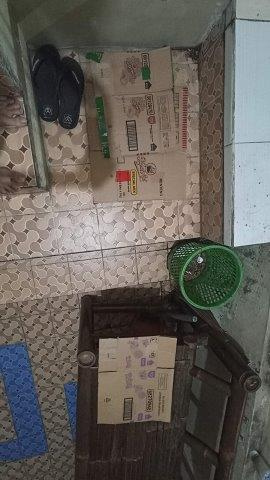kardus: (87, 47, 186, 201), (99, 337, 177, 423)
